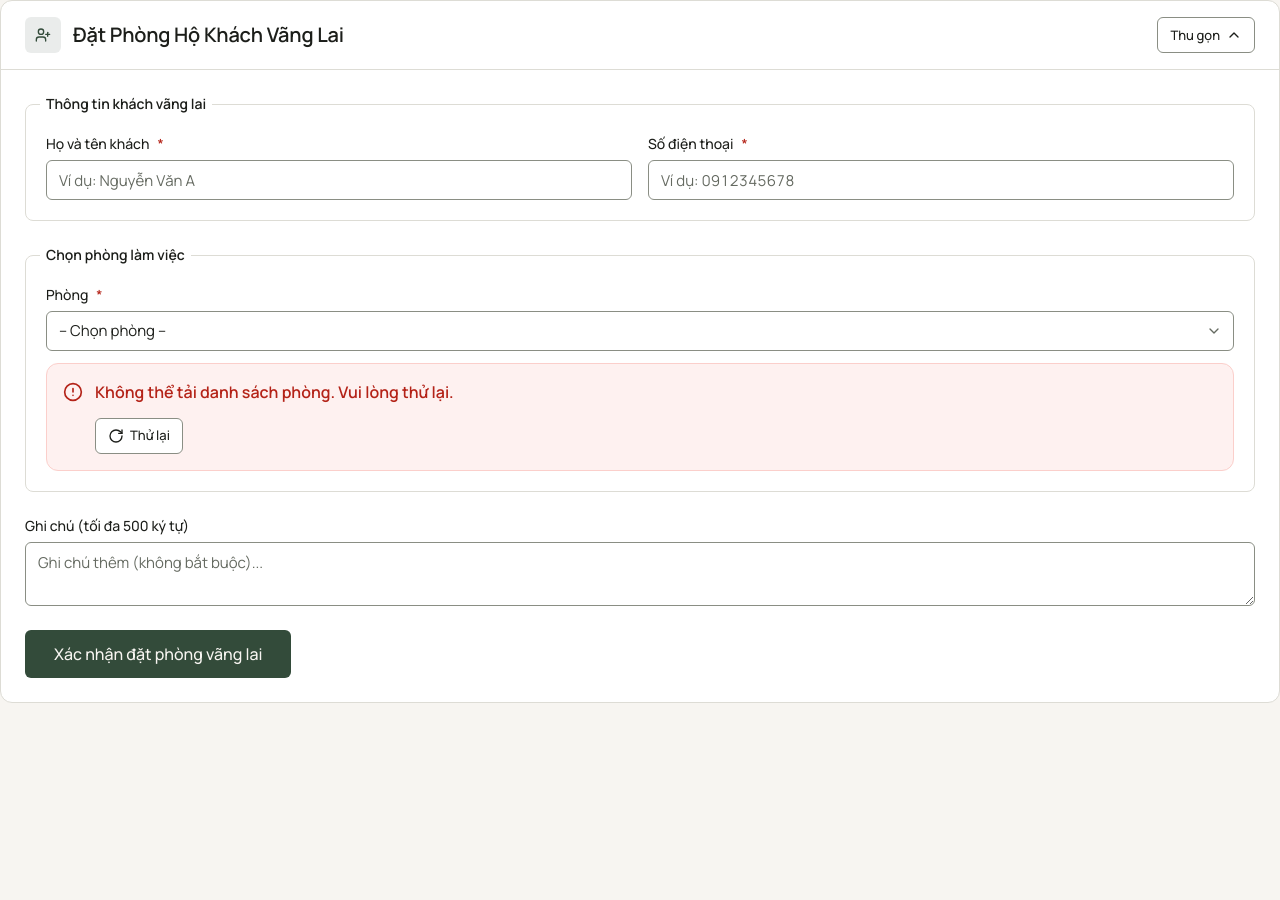
Test case: AdminGuestBookingForm Component Tests › displays error message and retry button when room fetch fails, and recovers on retry (F3 Regression)
Check: the message "Không thể tải danh sách phòng. Vui lòng thử lại. Thử lại" is shown, box left=46, top=363, right=1234, bottom=471
Click the button with test id "guest-retry-rooms-btn".
click(139, 436)  # box left=95, top=418, right=183, bottom=454
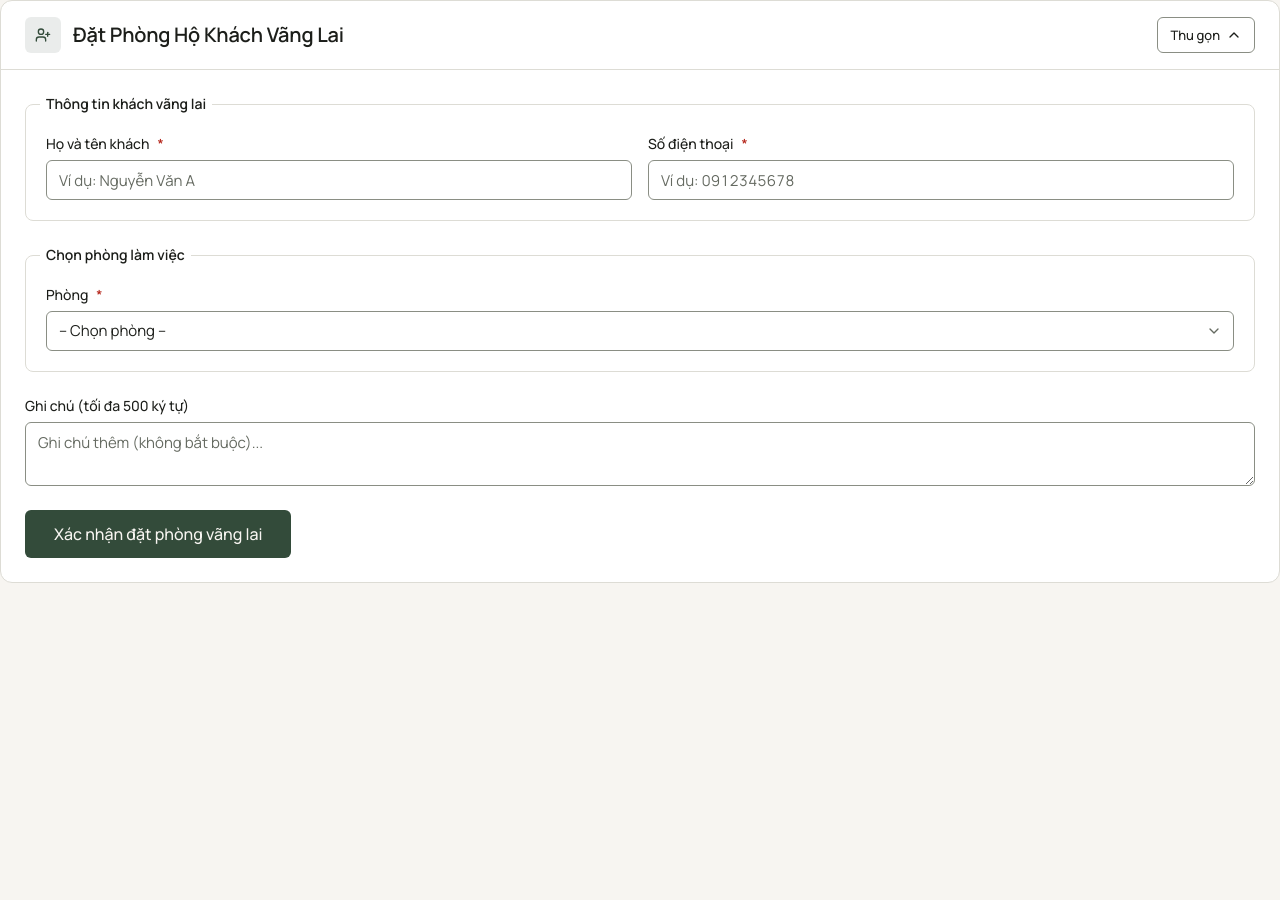
Check: the message with test id "guest-rooms-error" is gone
